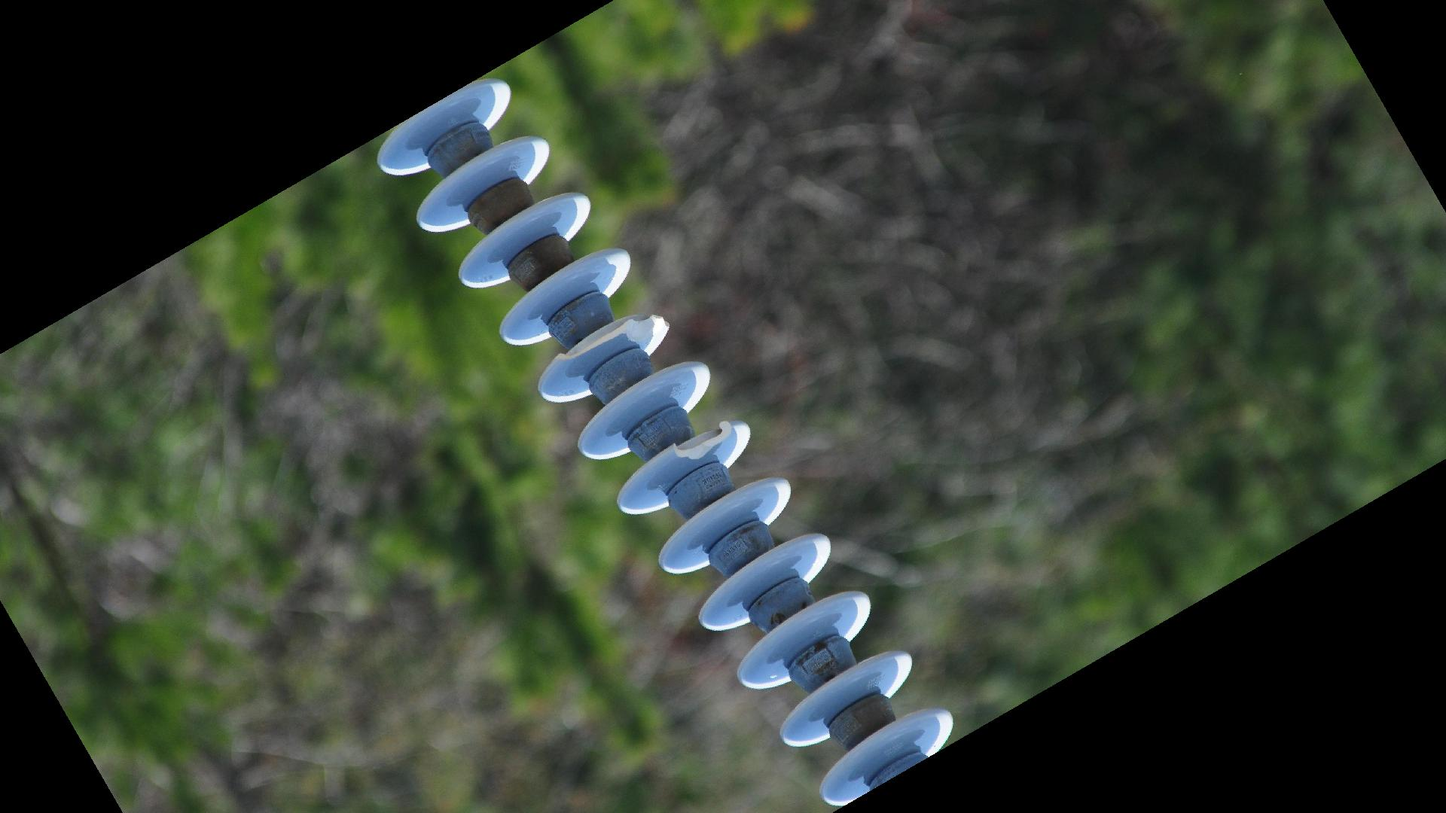insulator: (371, 72, 962, 811)
insulator_breakage: (552, 308, 673, 366), (665, 415, 735, 465)
